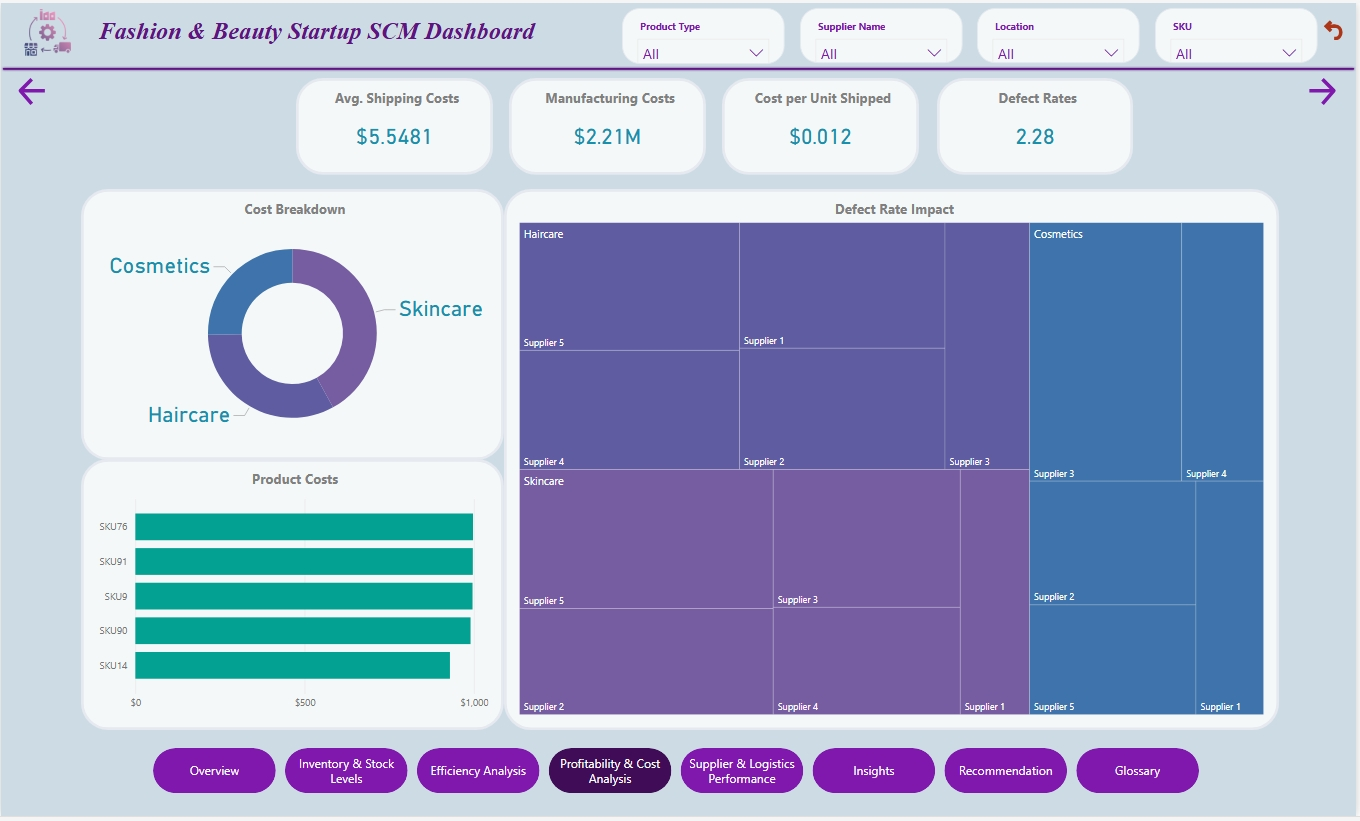

The page's visual inventory and layout, read from the dashboard file:
{"tool":"powerbi","page":{"name":"Profitability & Cost Analysis","canvas":[1500,900],"ordinal":3},"visuals":[{"type":"textbox","box":[103.2,11,554.4,46],"z":0},{"type":"donutChart","title":"Cost Breakdown","fields":{"Y":["Sum(supply_chain_data.Costs)"],"Category":["supply_chain_data.Product Type"]},"box":[88.7,205.4,468,299.6],"z":1000},{"type":"image","box":[0,0,103.2,65.1],"z":2000},{"type":"shape","box":[0,40,1500.4,66.2],"z":3000},{"type":"card","title":"Avg. Shipping Costs","fields":{"Values":[" Measures.Avg. Shipping Cost"]},"box":[326.1,83,217.7,106.6],"z":4000},{"type":"card","title":"Manufacturing Costs","fields":{"Values":[" Measures.Total Manufacturing Cost"]},"box":[562.3,83,217.7,106.6],"z":5000},{"type":"card","title":"Cost per Unit Shipped","fields":{"Values":[" Measures.Cost per Unit Shipped"]},"box":[798.5,83,217.7,106.6],"z":6000},{"type":"treemap","title":"Defect Rate Impact","fields":{"Details":["supply_chain_data.Supplier Name"],"Values":["Avg(supply_chain_data.Defect Rates)"],"Group":["supply_chain_data.Product Type"]},"box":[556.6,205.4,858.5,599.3],"z":7000},{"type":"clusteredBarChart","title":"Product Costs","fields":{"Category":["supply_chain_data.SKU"],"Y":["Sum(supply_chain_data.Costs)"]},"box":[88.7,505,468,299.6],"z":8000},{"type":"pageNavigator","box":[168.3,824.8,1162.6,50.5],"z":9000},{"type":"slicer","fields":{"Values":["supply_chain_data.Product Type"]},"box":[687.6,5,180,62],"z":10000},{"type":"slicer","fields":{"Values":["supply_chain_data.Supplier Name"]},"box":[884.1,5,180,61.1],"z":11000},{"type":"slicer","fields":{"Values":["supply_chain_data.Location"]},"box":[1080.5,5,180,61.1],"z":12000},{"type":"slicer","fields":{"Values":["supply_chain_data.SKU"]},"box":[1277,5,180,61.1],"z":13000},{"type":"actionButton","box":[1460,0,40,60.5],"z":14000},{"type":"actionButton","box":[15.5,78.8,99.9,39.4],"z":15000},{"type":"actionButton","box":[1442.9,78.8,56.3,39.4],"z":16000},{"type":"card","title":"Defect Rates","fields":{"Values":[" Measures.Avg. Defect Rate"]},"box":[1036,83.1,216.8,107],"z":17000}]}

Visuals, with their boxes in screenshot pixels (x1, y1, x2, y2), scaled from the page's 1500x900 canvas onto the 1360x821 screenshot:
textbox: locate(94, 10, 596, 52)
"Cost Breakdown" donutChart: locate(80, 187, 505, 461)
image: locate(0, 0, 94, 59)
shape: locate(0, 36, 1359, 97)
"Avg. Shipping Costs" card: locate(296, 76, 493, 173)
"Manufacturing Costs" card: locate(510, 76, 707, 173)
"Cost per Unit Shipped" card: locate(724, 76, 921, 173)
"Defect Rate Impact" treemap: locate(505, 187, 1283, 734)
"Product Costs" clusteredBarChart: locate(80, 461, 505, 734)
pageNavigator: locate(153, 752, 1207, 798)
slicer - supply_chain_data.Product Type: locate(623, 5, 787, 61)
slicer - supply_chain_data.Supplier Name: locate(802, 5, 965, 60)
slicer - supply_chain_data.Location: locate(980, 5, 1143, 60)
slicer - supply_chain_data.SKU: locate(1158, 5, 1321, 60)
actionButton: locate(1324, 0, 1359, 55)
actionButton: locate(14, 72, 105, 108)
actionButton: locate(1308, 72, 1359, 108)
"Defect Rates" card: locate(939, 76, 1136, 173)
